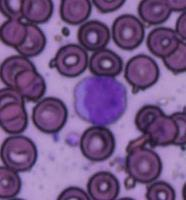M: (72, 74, 127, 126)
